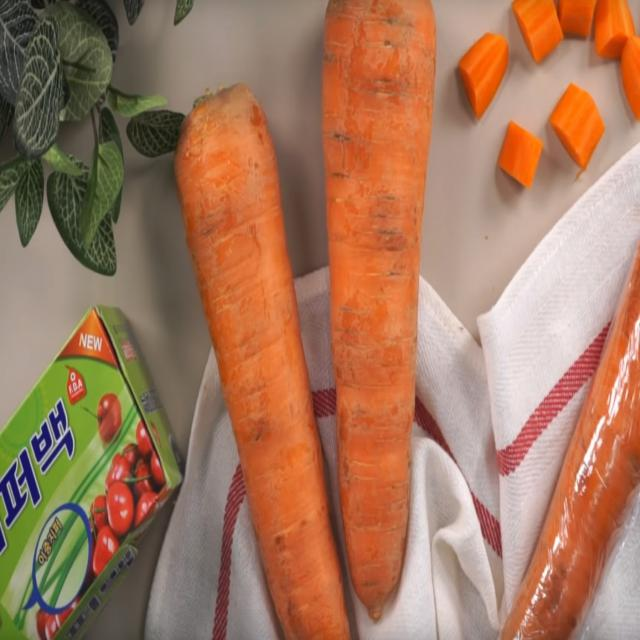carrot: (176, 80, 353, 640), (319, 0, 442, 623), (458, 0, 639, 190)
